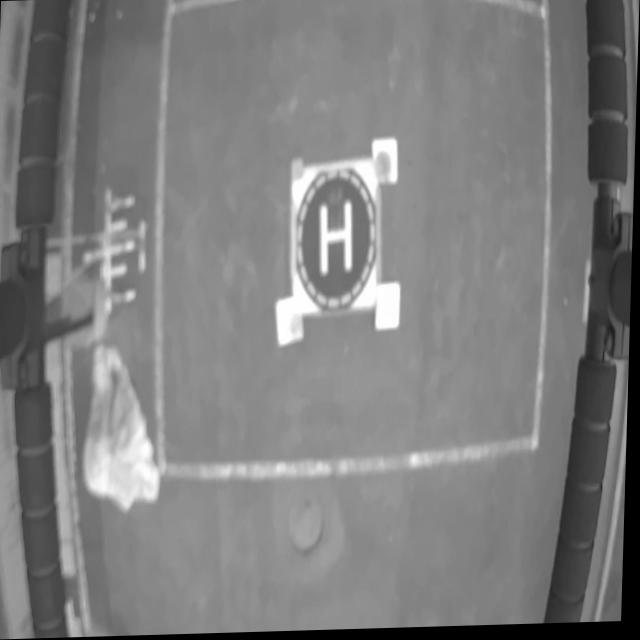Helipad: (319, 201, 352, 274)
